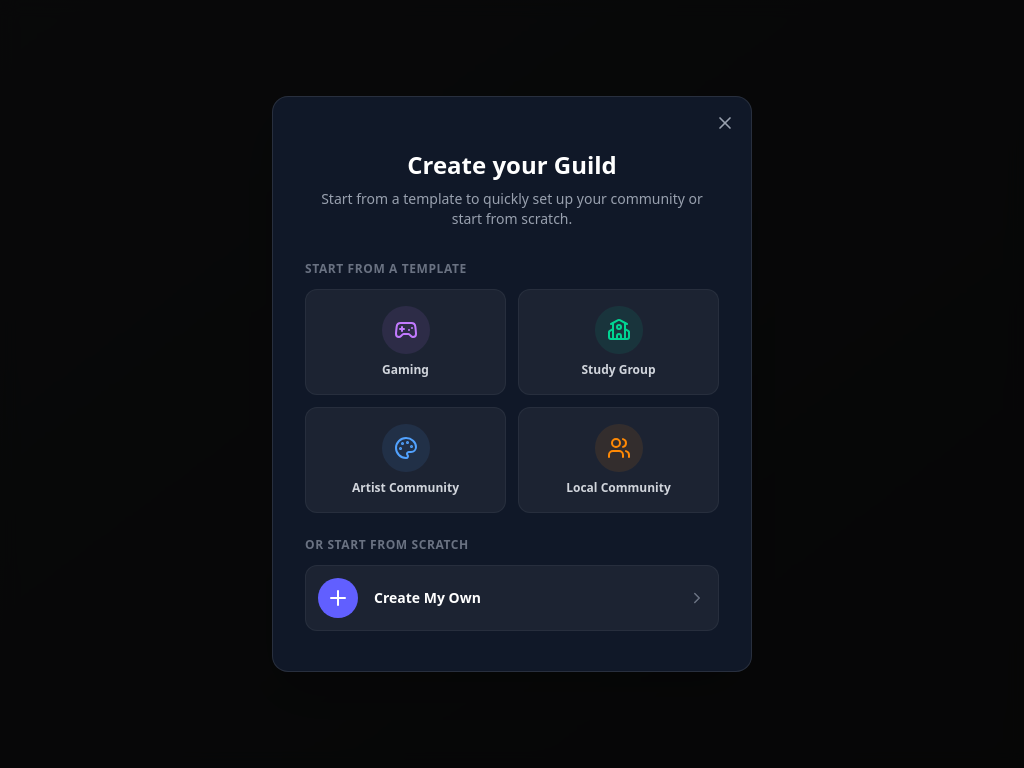
it: CreateGuildModal › transitions to customization step when a template is selected
Click the button "Gaming": (406, 342) [305,289,506,395]
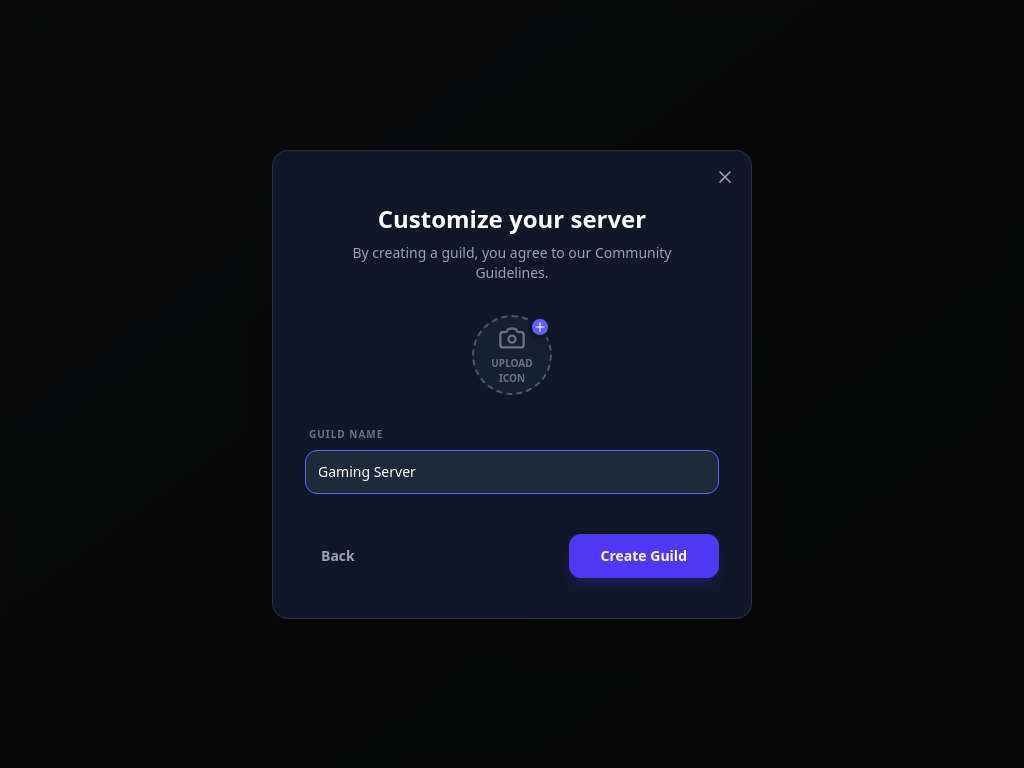
expect the heading "Customize your server" is shown: met, box [378,202,646,234]
expect the field showing "Gaming Server" is shown: met, box [305,450,719,494]
